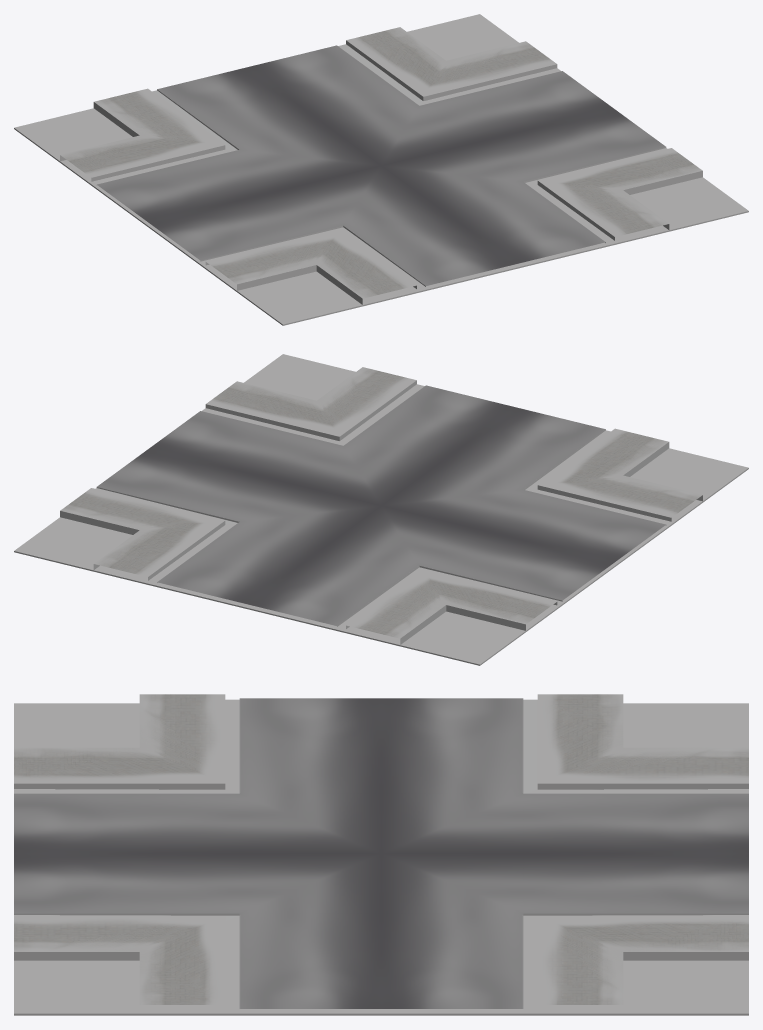
File: Flat_Intersection.fbx
3 views of the same model, one above another, from view 1: azimuth 30°, elevation 25°; view 2: azimuth 150°, elevation 25°; view 3: azimuth 270°, elevation 25° (orthographic). The views are drawn at different scales.
Visible parts, largest first — view 1: Road_10X26, Road_10X60; view 2: Road_10X26, Road_10X60; view 3: Road_10X26, Road_10X60.
Boxes of the visible parts, x1=… form: Road_10X26: x1=60, y1=27, x2=702, y2=304; Road_10X60: x1=14, y1=14, x2=748, y2=325; Road_10X26: x1=60, y1=367, x2=702, y2=644; Road_10X60: x1=14, y1=354, x2=748, y2=665; Road_10X26: x1=14, y1=694, x2=748, y2=1010; Road_10X60: x1=14, y1=703, x2=748, y2=1015.
Bounding box in the file's own units: 1000 × 15.95 × 1000.
